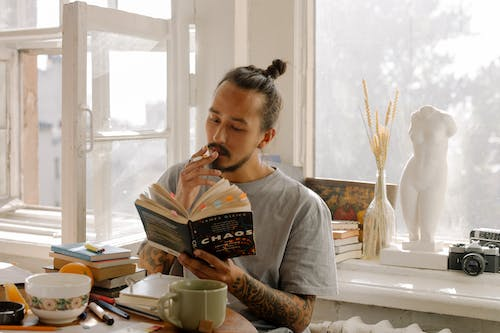cigarette: (188, 151, 214, 163)
